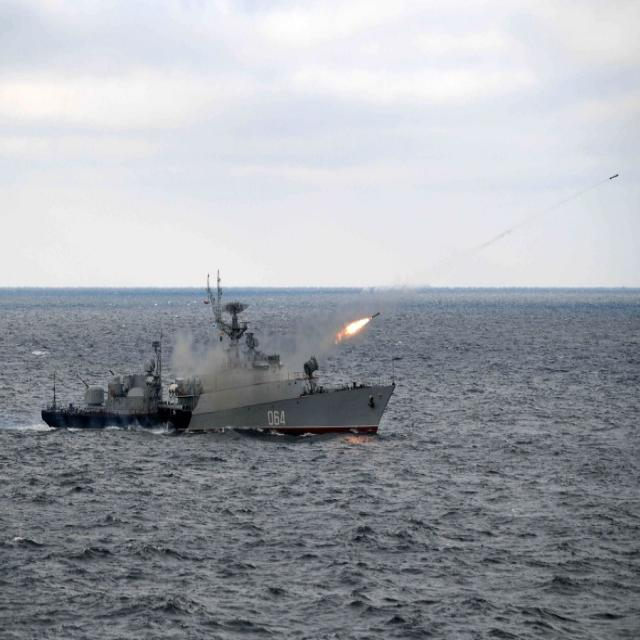navalvessels: (178, 274, 394, 469), (15, 313, 187, 442)
